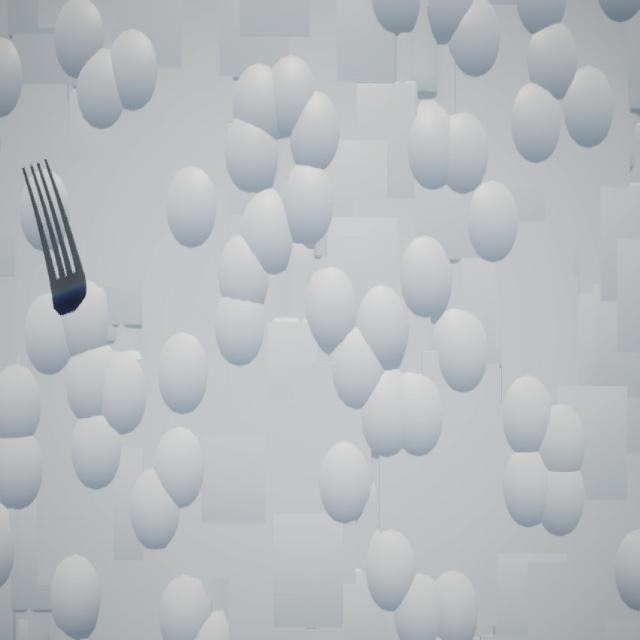top_folk: (23, 161, 88, 318)
